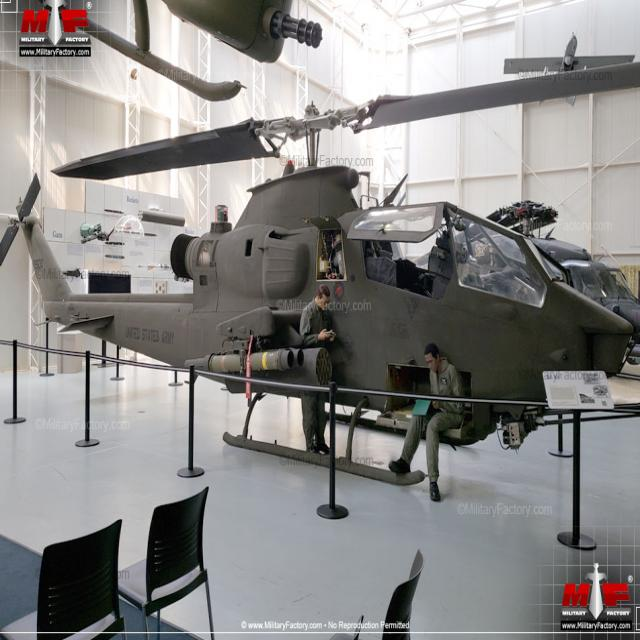helicopter: (1, 56, 640, 504)
